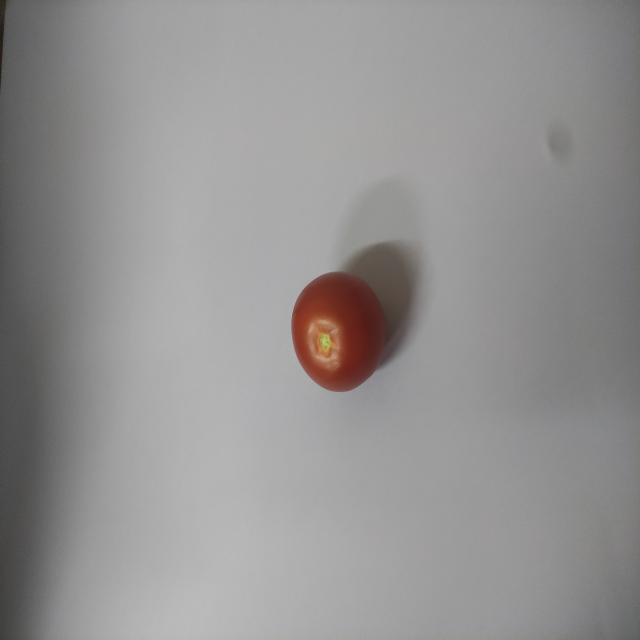kirmizi: (270, 262, 405, 396)
